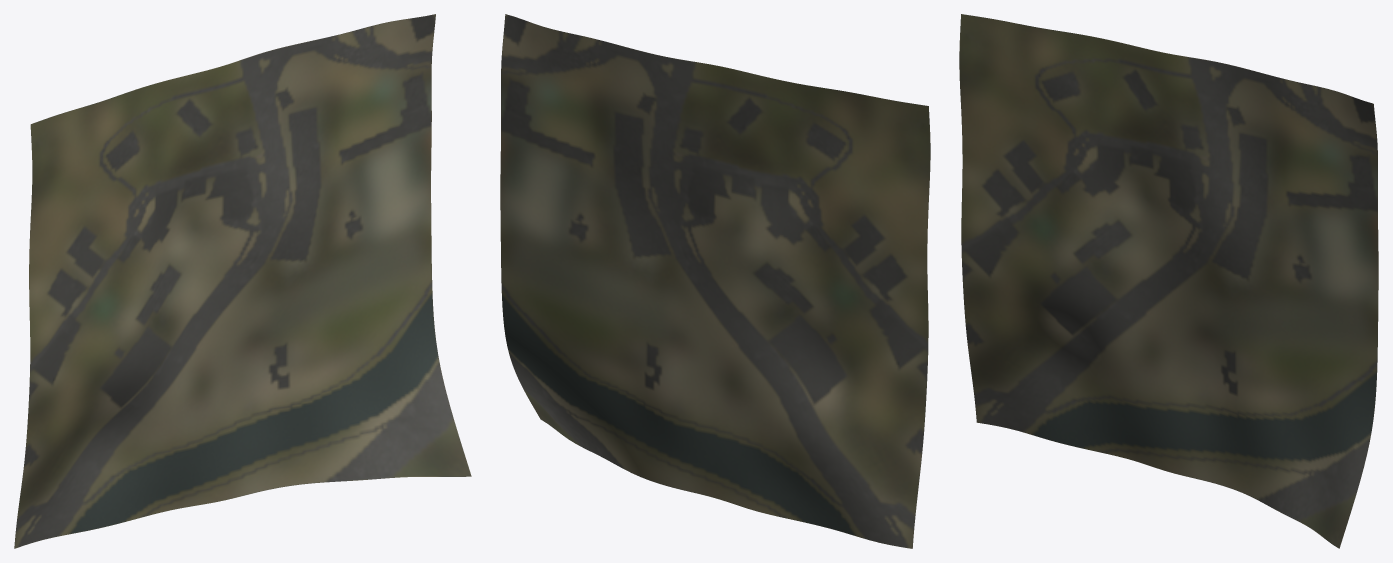
Rendered from ground_mid_06_05.obj.
3 renders of one model, left to right at view 1: azimuth 30°, elevation 25°; view 2: azimuth 150°, elevation 25°; view 3: azimuth 330°, elevation 25°, orthographic. The views are drawn at different scales.
Parts seen in each view (by area): view 1: ground_mid_06_05; view 2: ground_mid_06_05; view 3: ground_mid_06_05.
Boxes of the visible parts, x1=… form: ground_mid_06_05: x1=14, y1=14, x2=471, y2=548; ground_mid_06_05: x1=500, y1=14, x2=930, y2=548; ground_mid_06_05: x1=959, y1=14, x2=1378, y2=548.
Bounding box in the file's own units: 200 × 200 × 35.53.
1 material, 1 textured.
